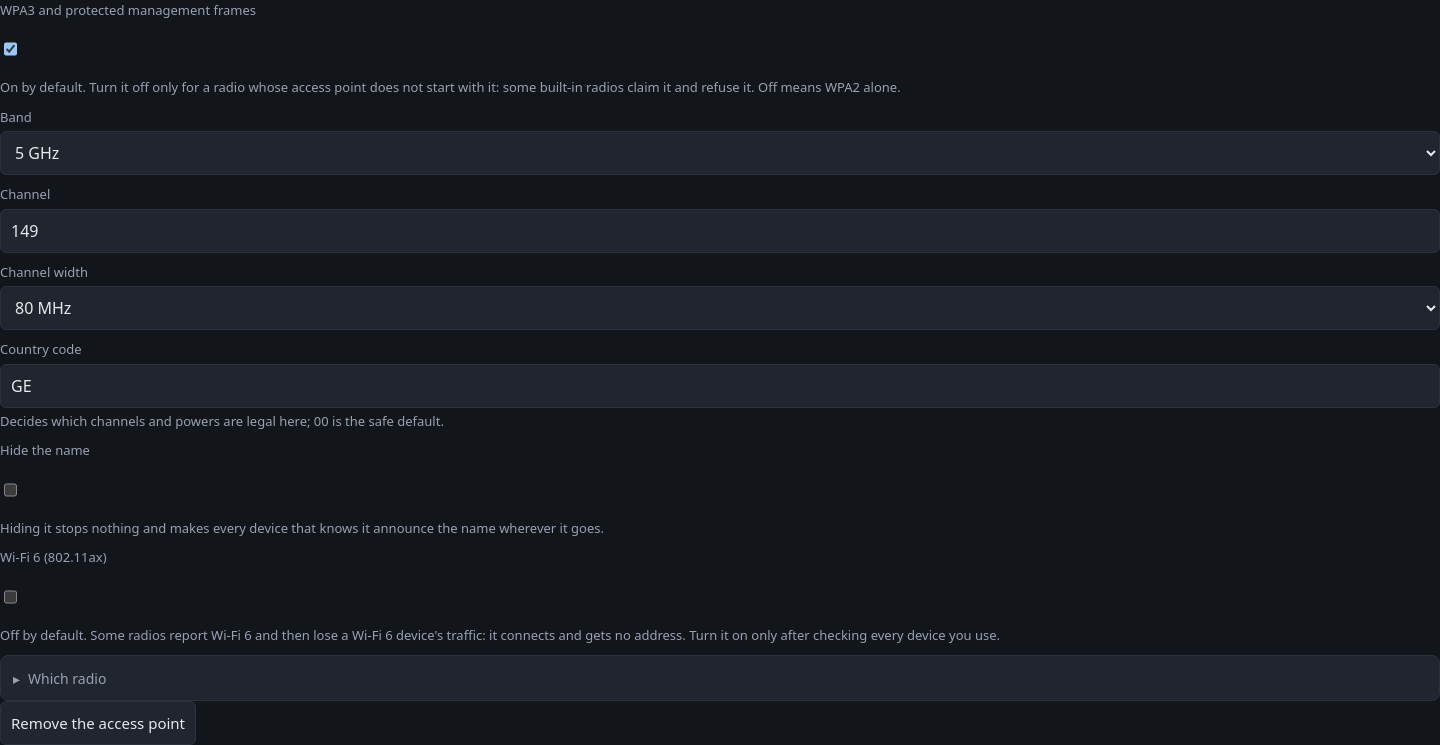
Test: pinning a name, and taking an interface over › states what each answer costs, for the answer that is off as well
(page scrolled)
Click the heading "Which radio". click: (67, 678)
box: [28, 668, 106, 688]
(page scrolled)
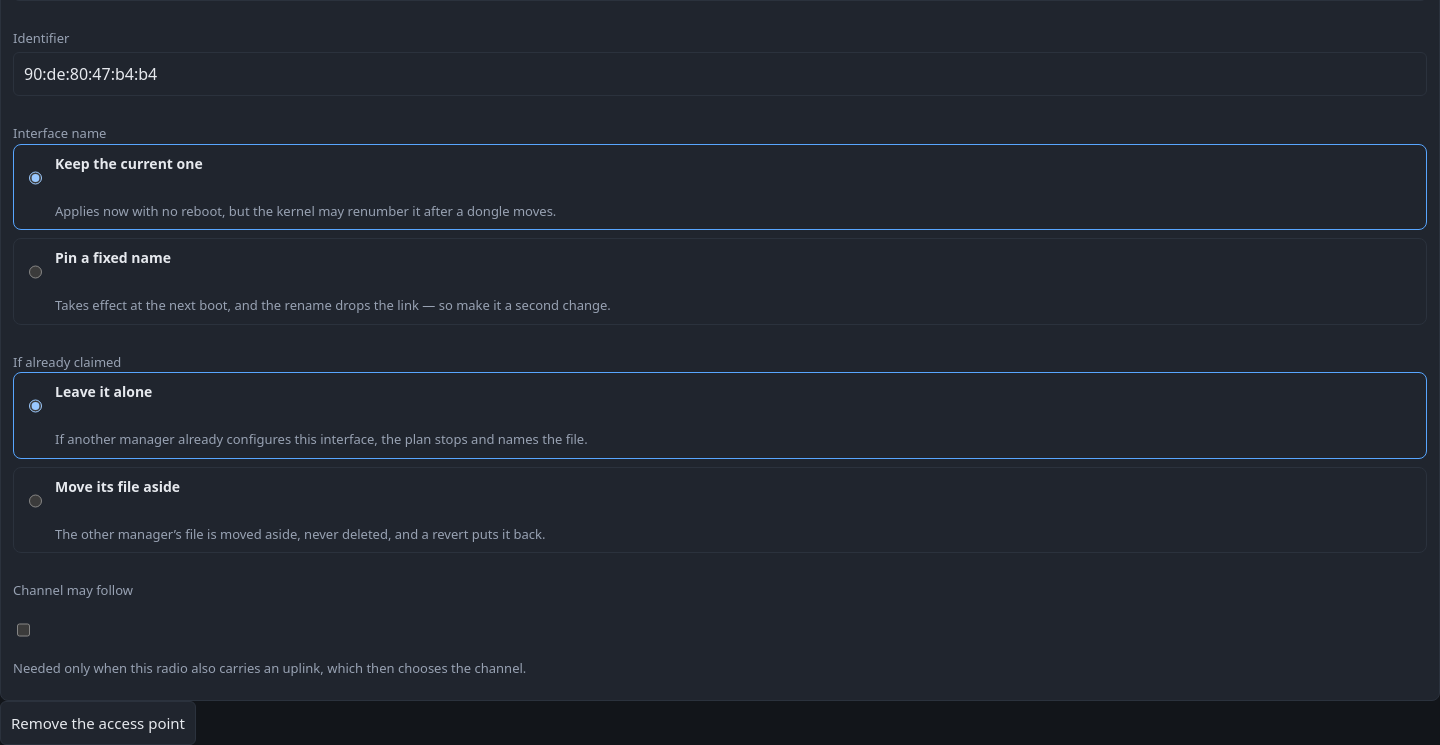
Result: the text "Applies now with no reboot" is shown at [55, 202, 556, 220]
Result: the text "at the next boot" is shown at [55, 296, 611, 314]
Result: the text "the plan stops and names the file" is shown at [55, 430, 588, 448]
